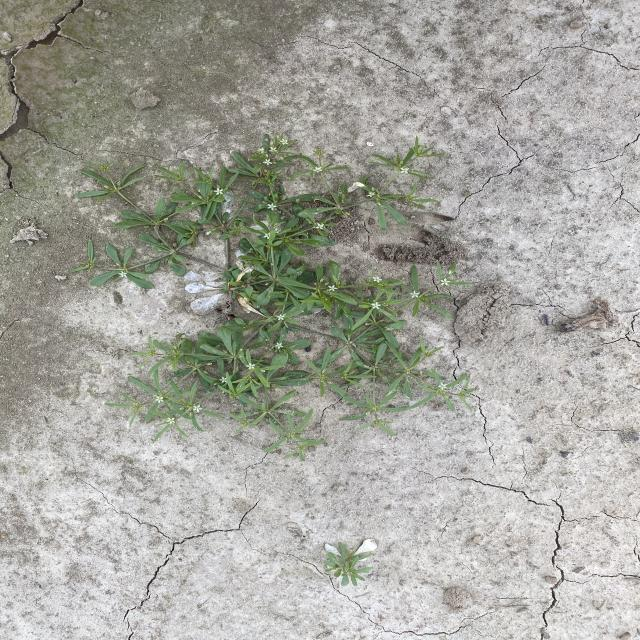Carpetweed: (61, 132, 481, 462), (319, 538, 380, 587)
